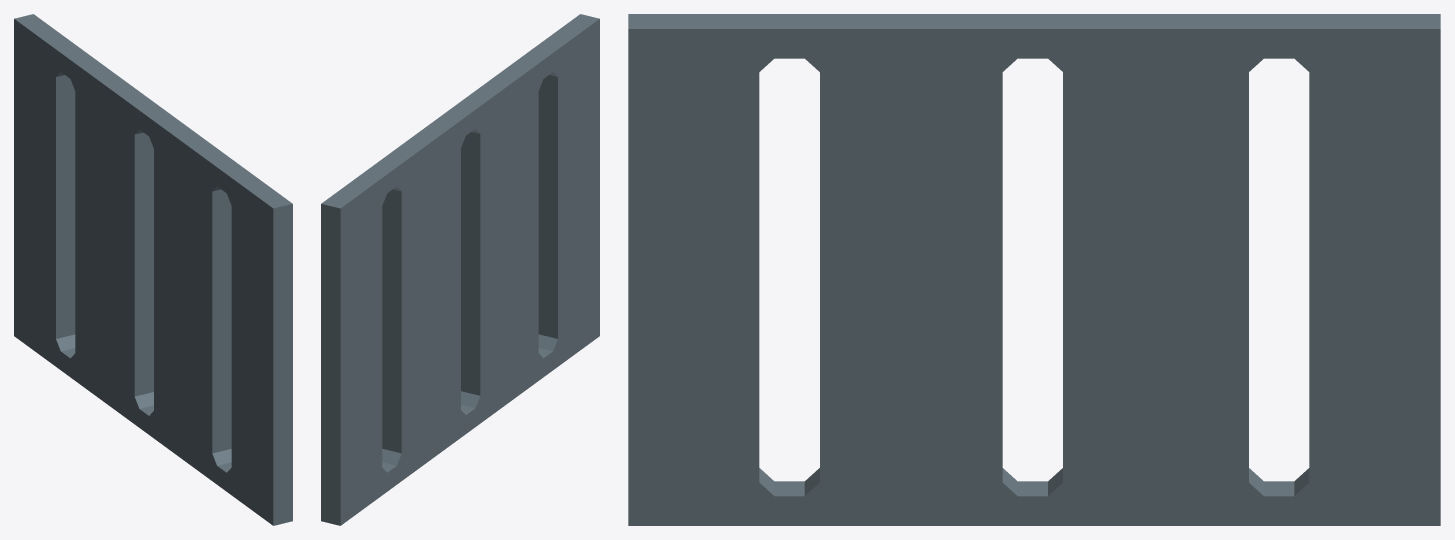
The model's file is plaka 2.fbx.
3 renders of one model, left to right at view 1: azimuth 30°, elevation 25°; view 2: azimuth 150°, elevation 25°; view 3: azimuth 270°, elevation 25°, orthographic. The views are drawn at different scales.
Parts seen in each view (by area): view 1: pCube407; view 2: pCube407; view 3: pCube407.
Boxes of the visible parts, left/top/right/bottom form: pCube407: left=14, top=14, right=292, bottom=525; pCube407: left=321, top=14, right=599, bottom=525; pCube407: left=628, top=14, right=1440, bottom=525.
Size of the model in its own units: 8.92 by 139 by 206.
